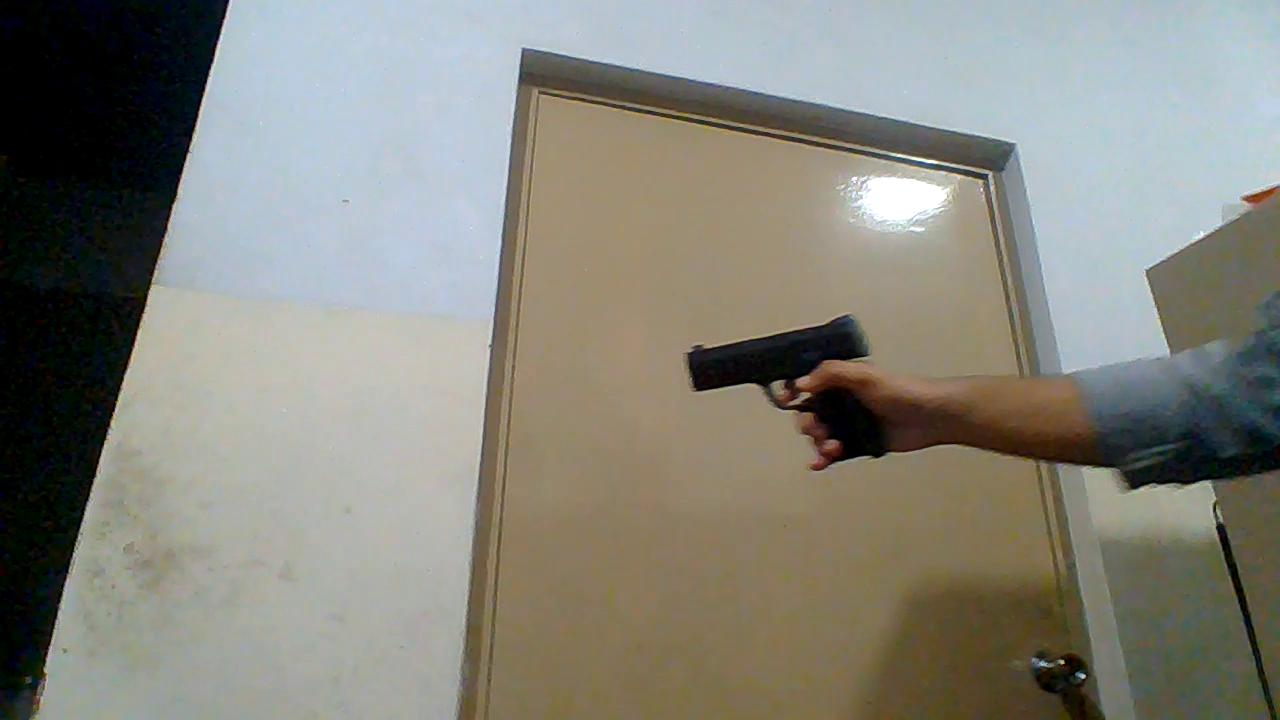weapon: (682, 309, 887, 460)
